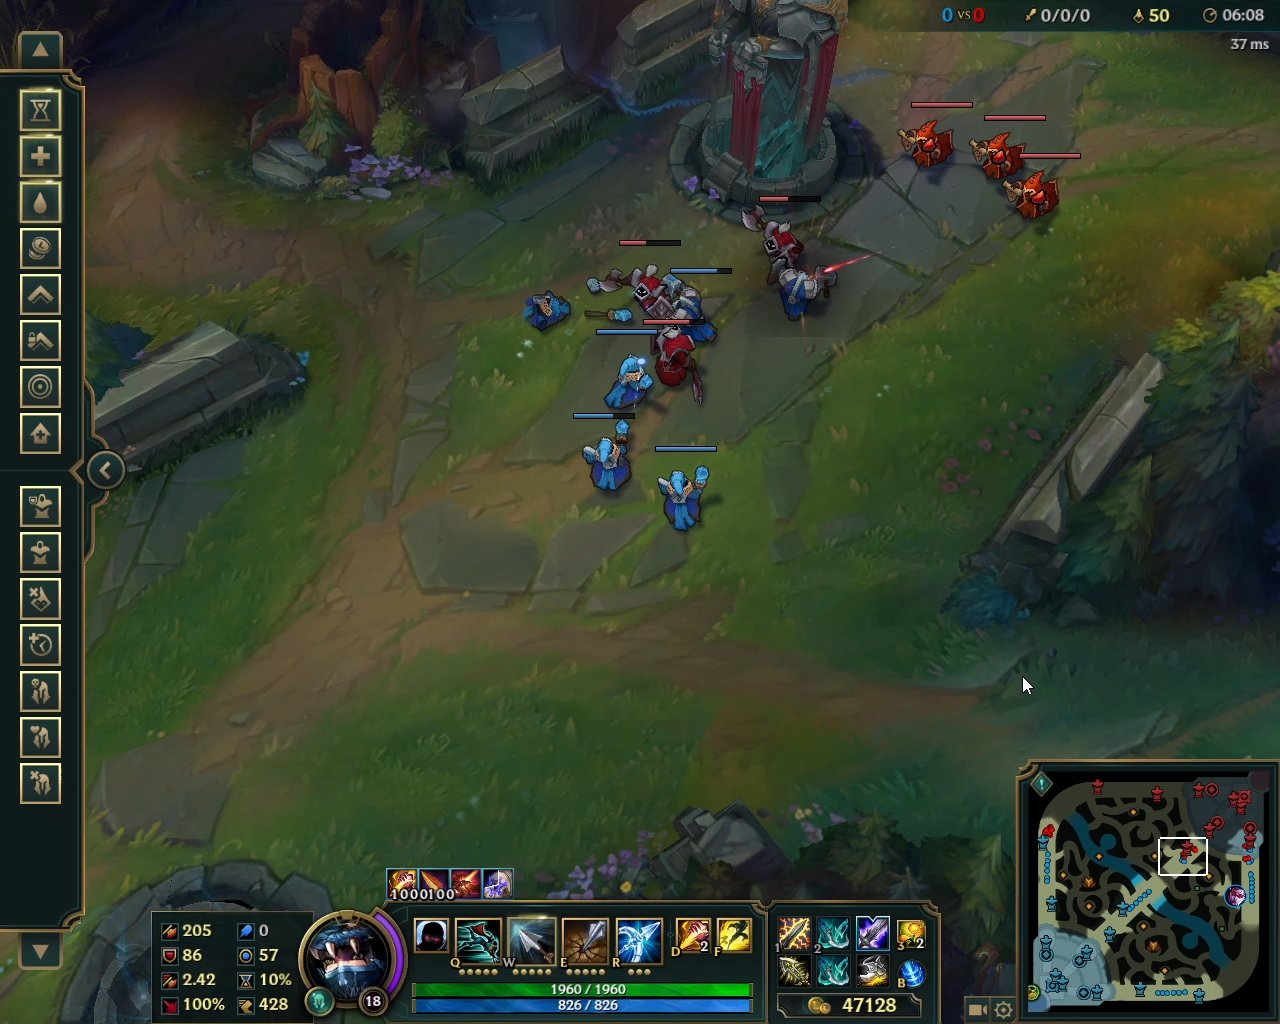EnemyMinion: (739, 195, 822, 288), (601, 238, 683, 319), (643, 318, 709, 405), (1001, 154, 1080, 226), (893, 102, 972, 174), (967, 115, 1046, 183)
Tower: (681, 1, 859, 206)
